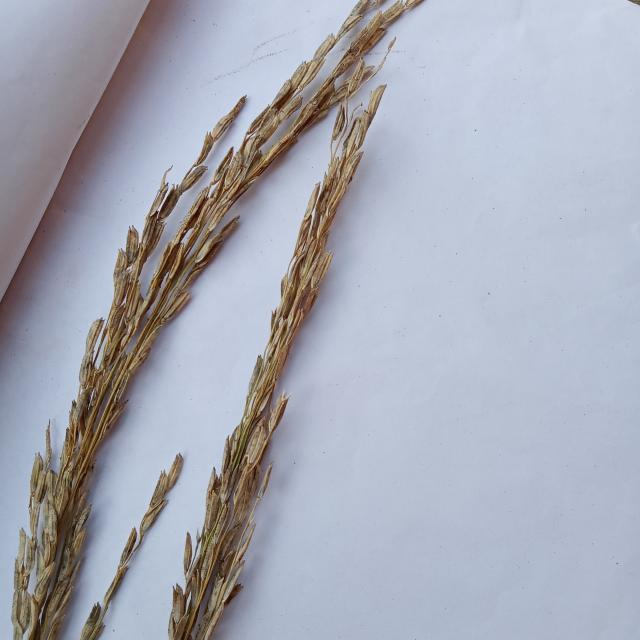Neck_Blast: (9, 0, 429, 640), (167, 85, 392, 640), (93, 451, 188, 640)
